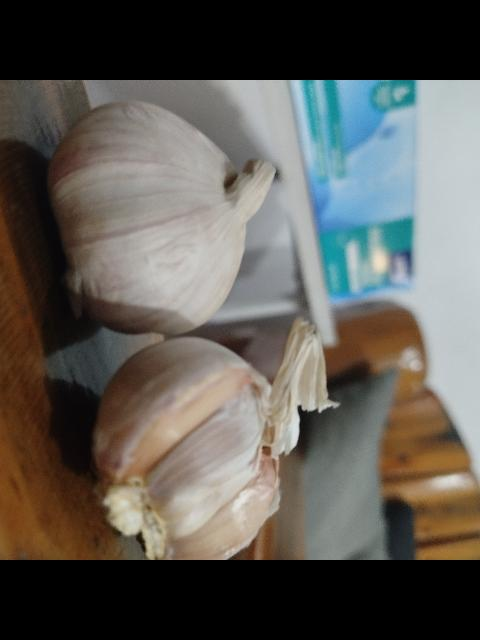garlic: (88, 316, 340, 560), (45, 100, 276, 336)
